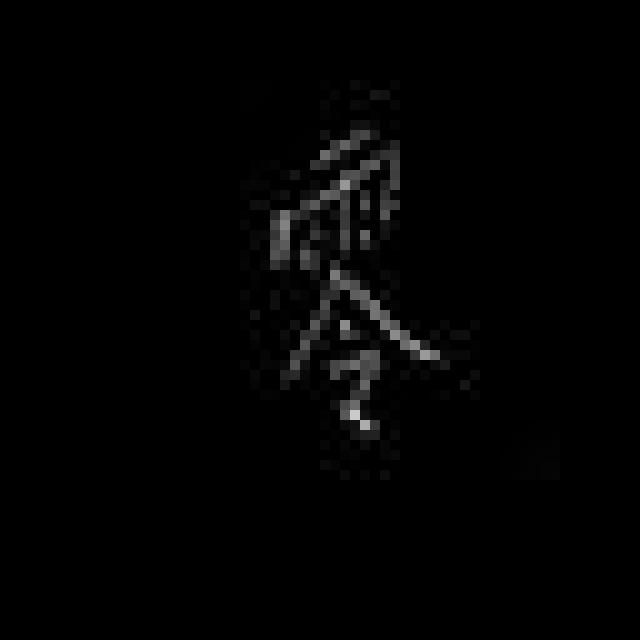0 -zero-: (257, 118, 448, 446)
